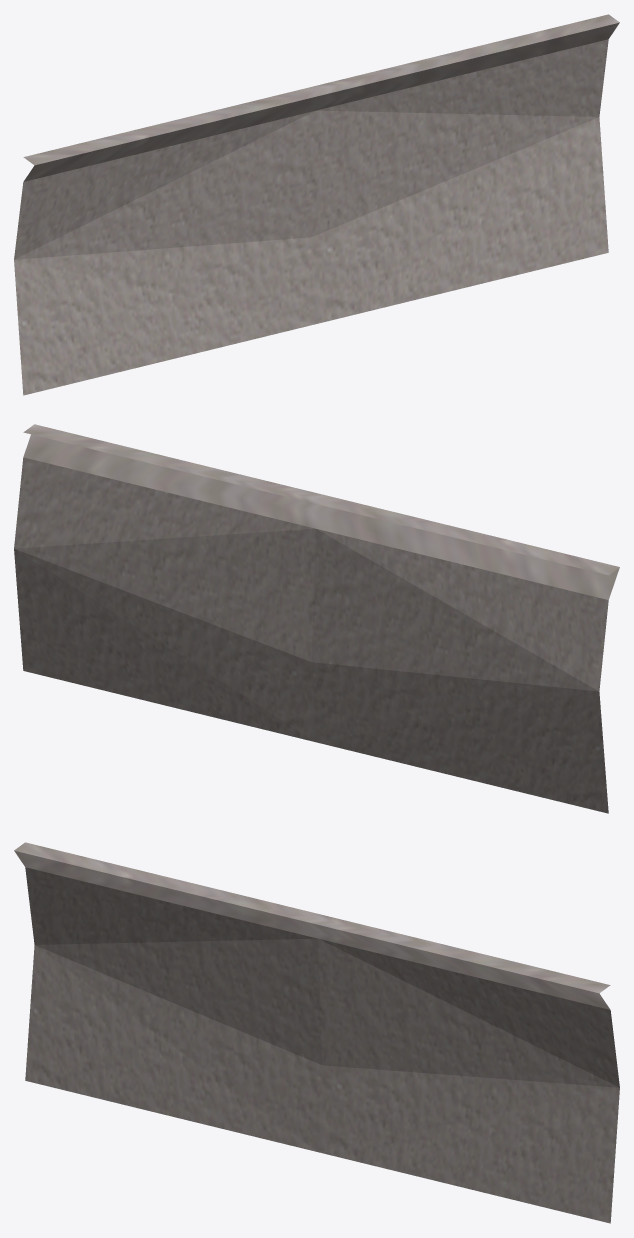
File: W_A3_xxxx [Marmor]_1345.glb
3 renders of one model, top to bottom at view 1: azimuth 30°, elevation 25°; view 2: azimuth 150°, elevation 25°; view 3: azimuth 330°, elevation 25°, orthographic.
Visible parts, largest first — view 1: polySurfaceShape787, polySurfaceShape1065; view 2: polySurfaceShape787, polySurfaceShape1065; view 3: polySurfaceShape787, polySurfaceShape1065.
Boxes of the visible parts, box(x1,y1,x2,y2) form: polySurfaceShape787: box(14, 39, 608, 395); polySurfaceShape1065: box(23, 14, 619, 181); polySurfaceShape787: box(14, 457, 608, 813); polySurfaceShape1065: box(23, 424, 619, 599); polySurfaceShape787: box(25, 867, 619, 1223); polySurfaceShape1065: box(14, 842, 610, 1009).
Bounding box in the file's own units: 1 × 0.3891 × 0.0607.
2 materials, 2 textured.
